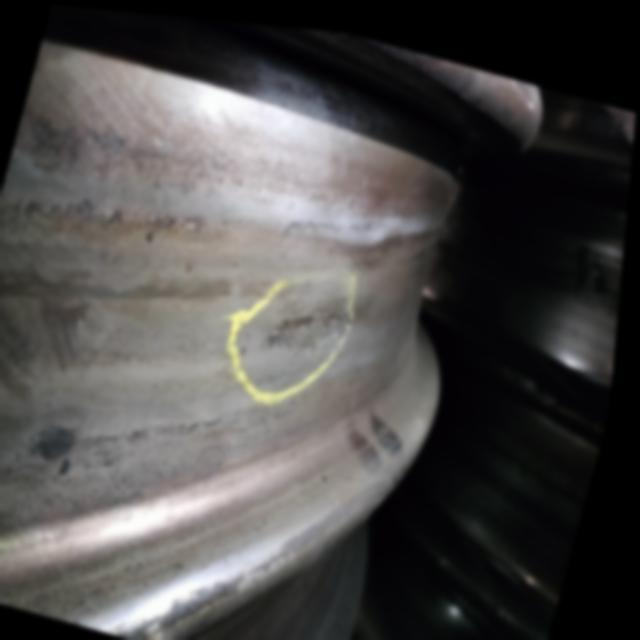Peeling: (272, 286, 361, 361)
